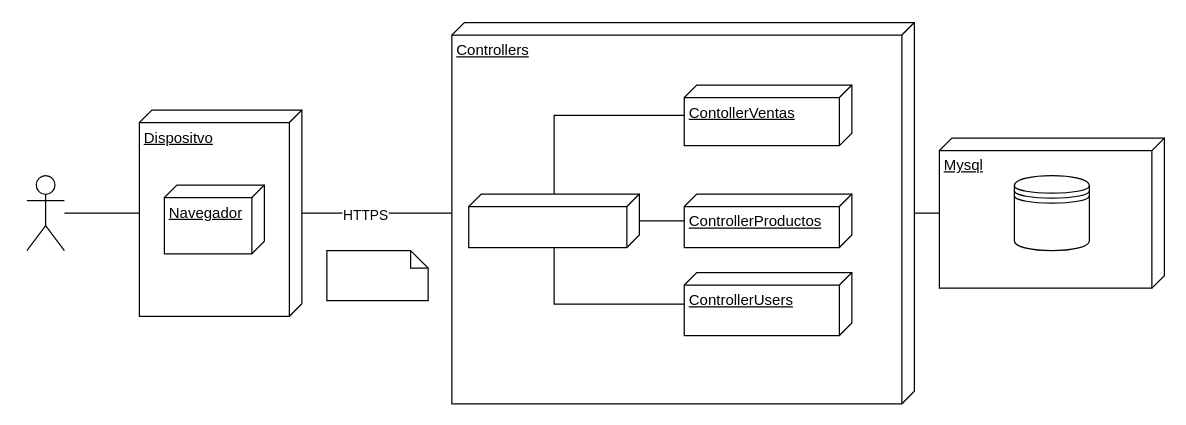
This 1186x425 diagram has some shape labels left out. Here are the shapes that lost their labels. From the top down, the centre of each, then its label:
At point 45,212: "usuario".
At point 553,220: "ControllerPeticiones".
At point 1051,212: "Base de datos".
At point 377,275: "PETICIONES".
